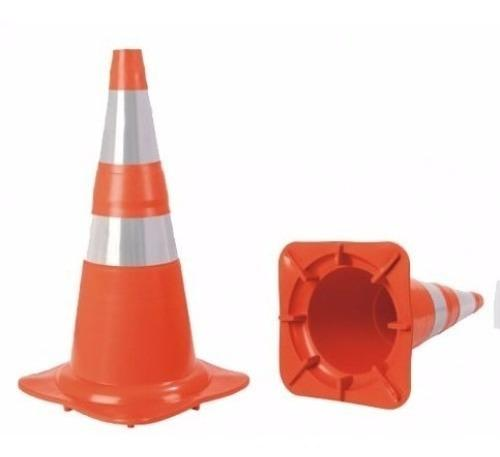traffic_cone: (17, 47, 250, 428)
